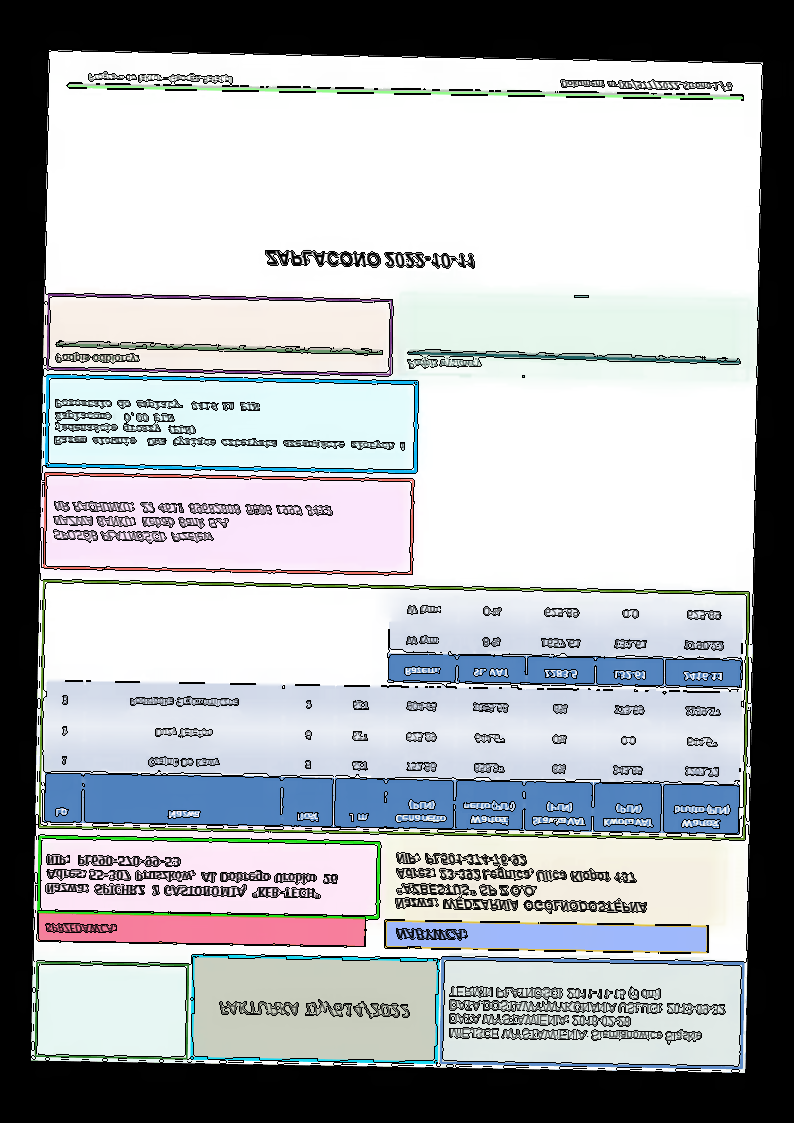Table: (42, 680, 742, 836), (387, 591, 745, 690)
TextBox: (52, 397, 406, 452), (446, 981, 727, 1046), (393, 852, 649, 916), (45, 852, 339, 901), (50, 499, 333, 548), (263, 248, 477, 273), (216, 998, 410, 1020), (558, 77, 733, 93), (86, 70, 234, 86), (404, 355, 484, 374), (53, 350, 141, 367), (42, 919, 118, 937), (393, 926, 469, 943)
